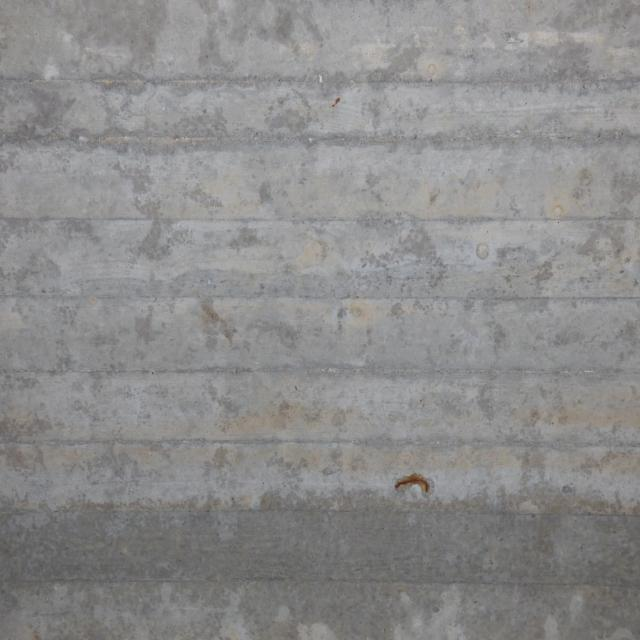corrosion: (380, 457, 442, 503)
